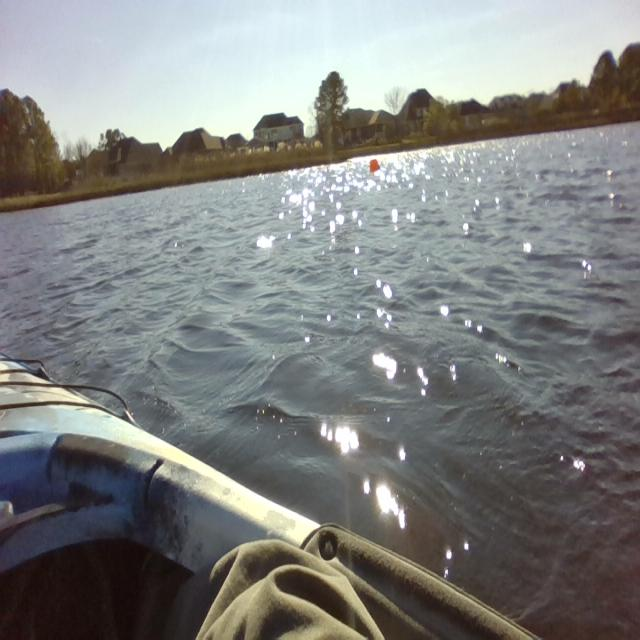Buoy: (362, 150, 388, 182)
